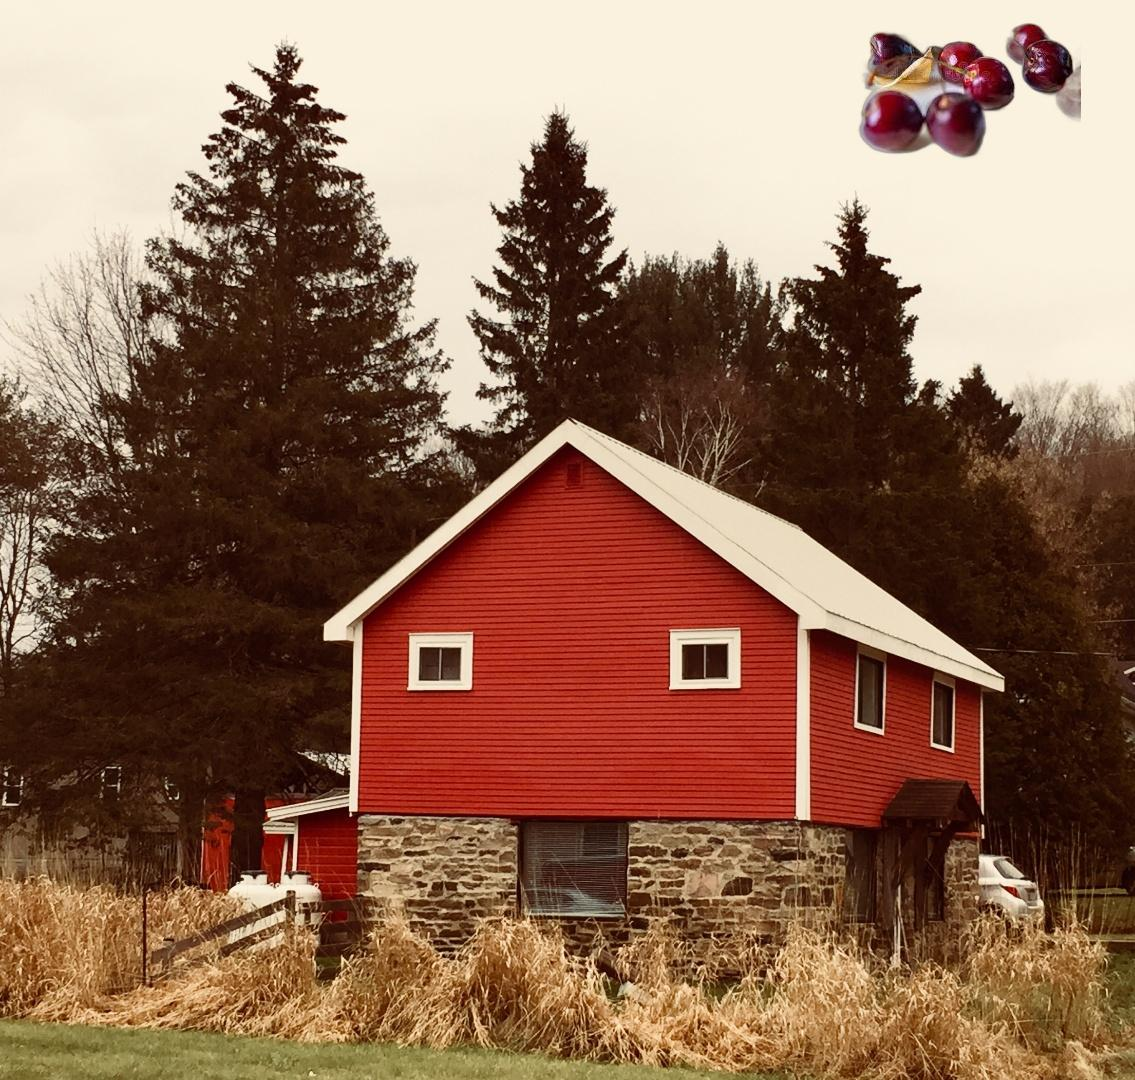biological: (854, 21, 1081, 160)
